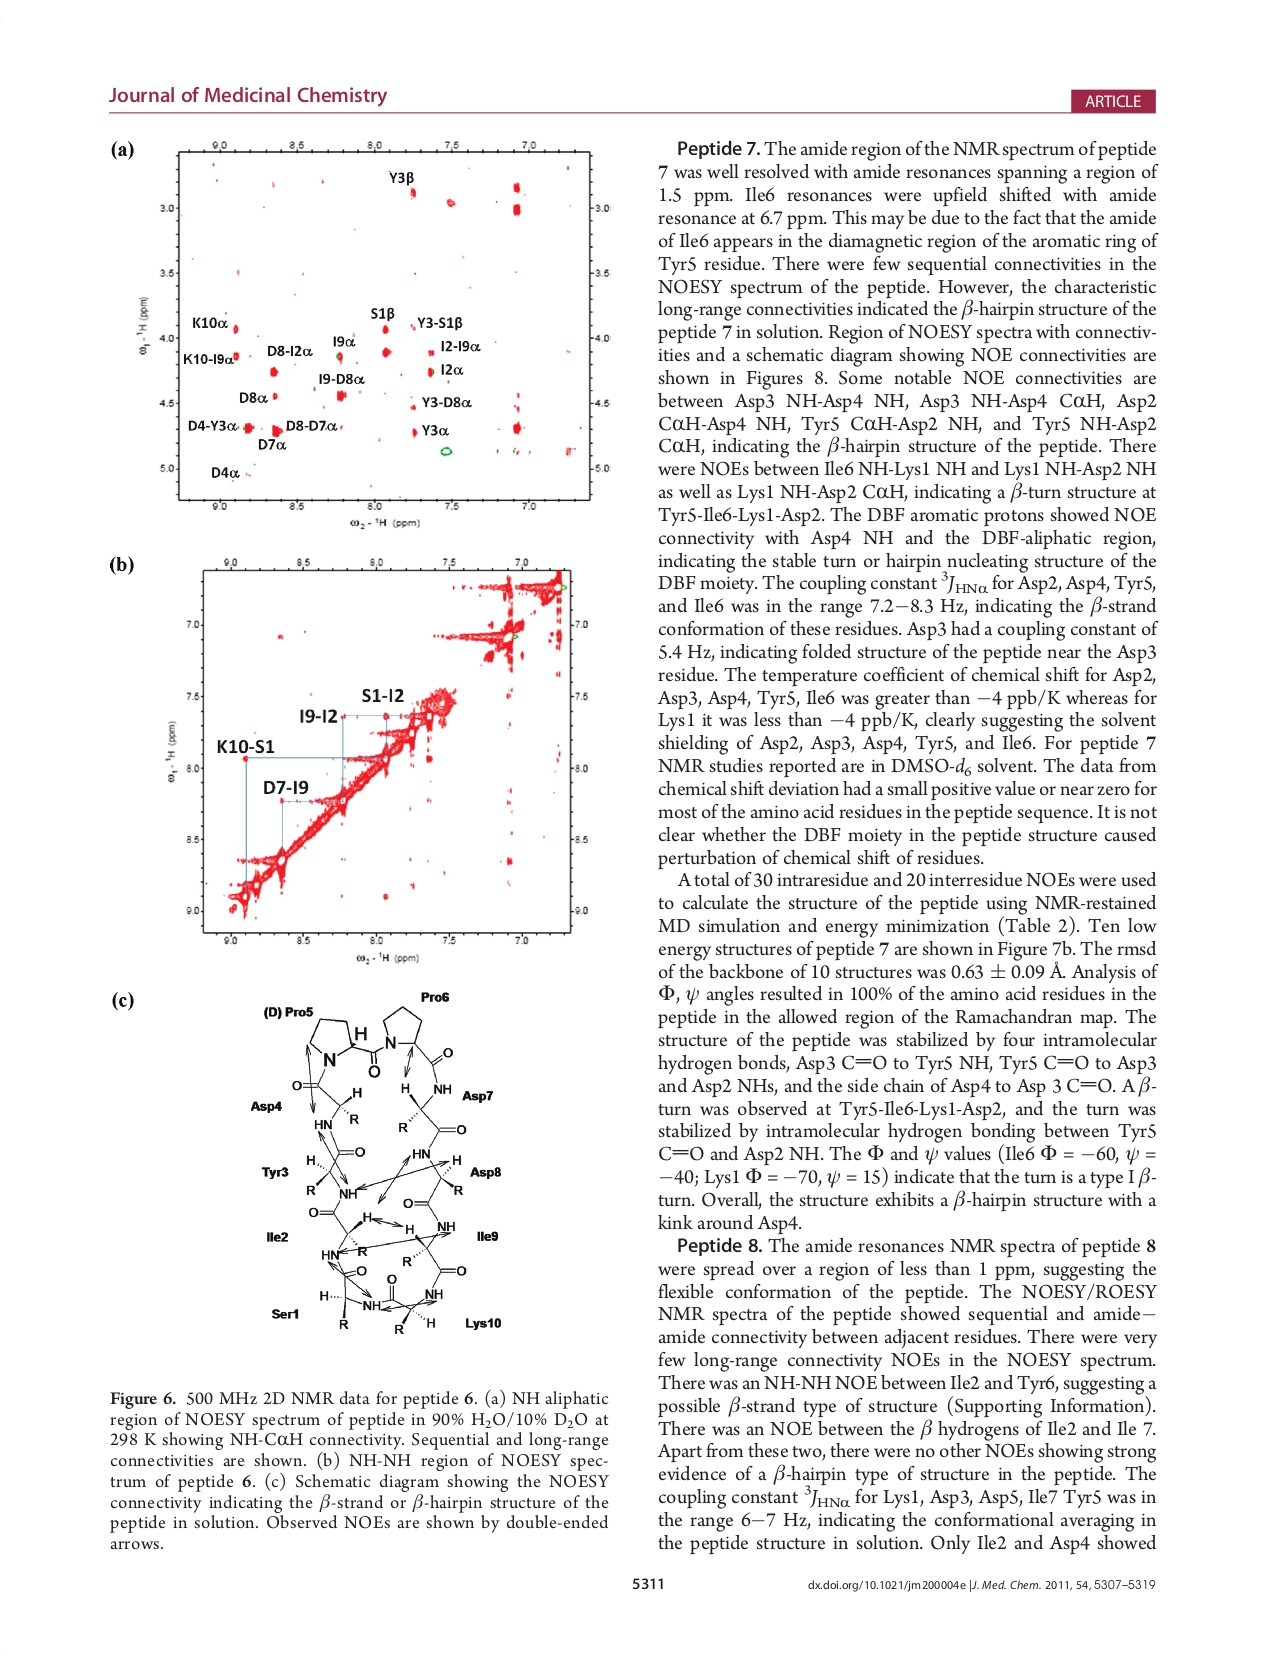exist_molecular: (290, 1005, 469, 1335)
